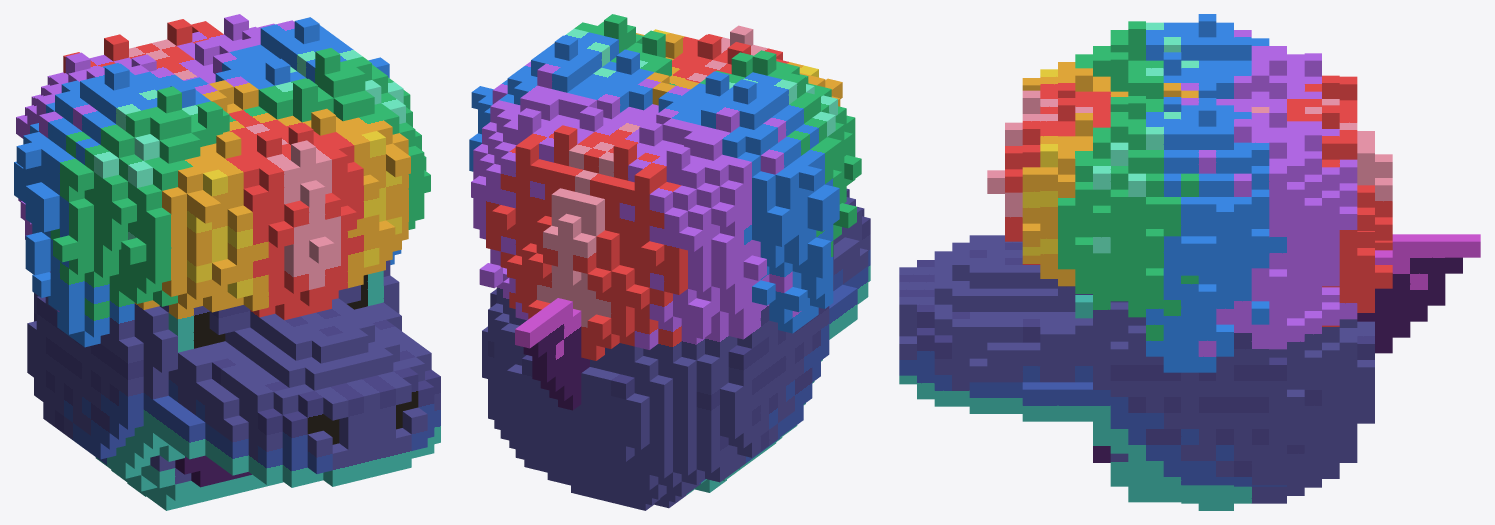
The model's file is clown wig.gltf.
3 renders of one model, left to right at view 1: azimuth 30°, elevation 25°; view 2: azimuth 150°, elevation 25°; view 3: azimuth 270°, elevation 25°, orthographic. The views are drawn at different scales.
Visible parts, largest first — view 1: 14_Zilla_Head_Clown_Wig-Mesh; view 2: 14_Zilla_Head_Clown_Wig-Mesh; view 3: 14_Zilla_Head_Clown_Wig-Mesh.
Boxes of the visible parts, x1=… form: 14_Zilla_Head_Clown_Wig-Mesh: x1=14, y1=14, x2=440, y2=510; 14_Zilla_Head_Clown_Wig-Mesh: x1=469, y1=14, x2=870, y2=510; 14_Zilla_Head_Clown_Wig-Mesh: x1=899, y1=14, x2=1480, y2=510.
Bounding box in the file's own units: 23 × 26 × 33.
1 material, 1 textured.
